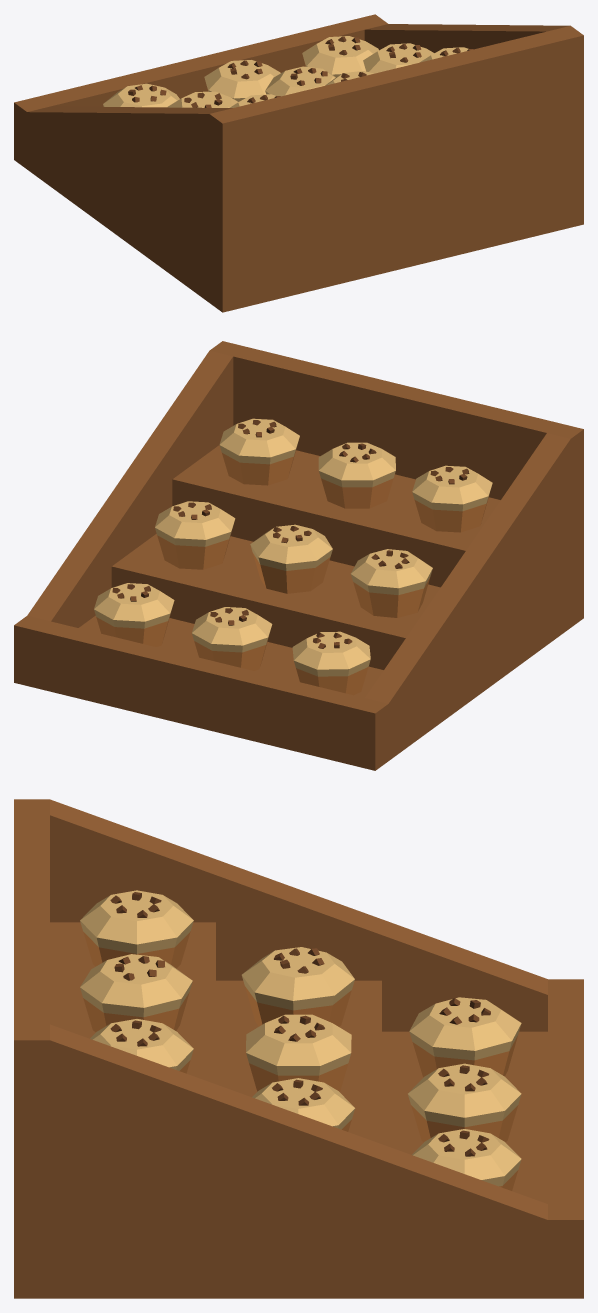
Rendered from Target_FoodStandCake.fbx.
The picture shows the model from 3 angles, top to bottom: view 1: azimuth 30°, elevation 25°; view 2: azimuth 150°, elevation 25°; view 3: azimuth 270°, elevation 25°; orthographic projection. The views are drawn at different scales.
Visible parts, largest first — view 1: FoodStand; view 2: FoodStand; view 3: FoodStand.
Boxes of the visible parts, x1,y1,x2,y2 form: FoodStand: (14, 14, 583, 312); FoodStand: (14, 341, 583, 770); FoodStand: (14, 799, 583, 1298).
Size of the model in its own units: 1.5 by 0.75 by 1.5.
